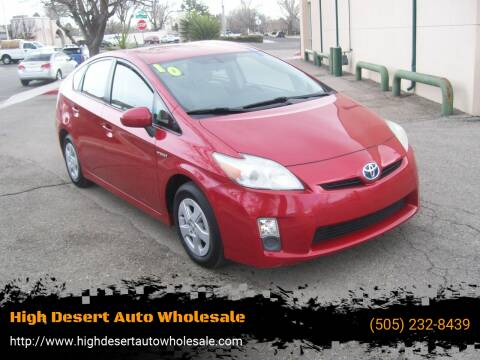Toyota Prius: (54, 37, 422, 272)
